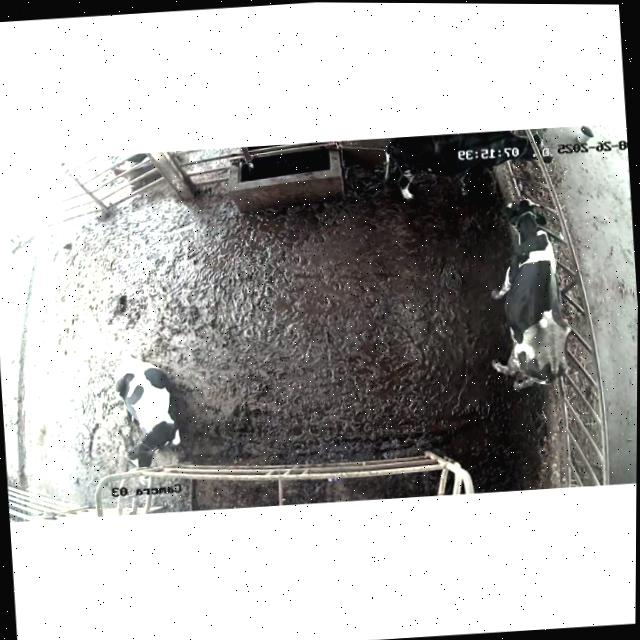stand: (465, 187, 578, 402)
